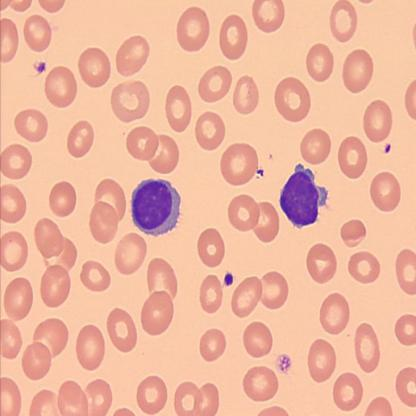Lymphocyte: (278, 162, 328, 230), (131, 178, 181, 237)
